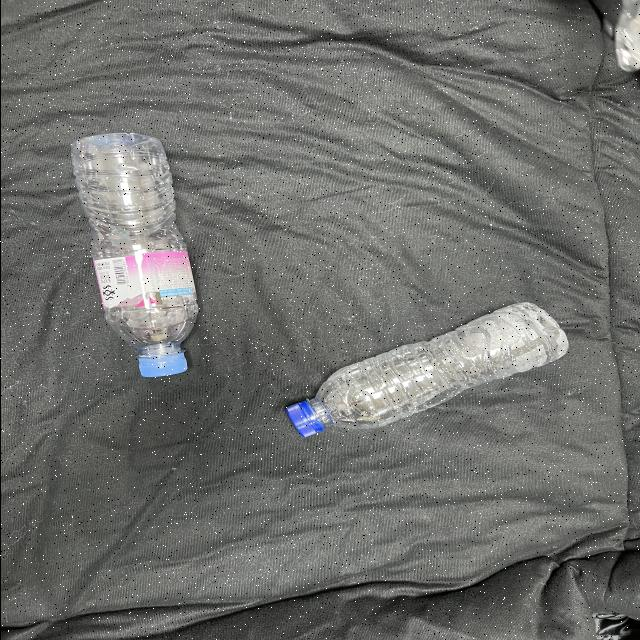plastic: (263, 284, 585, 459), (54, 128, 213, 392)
